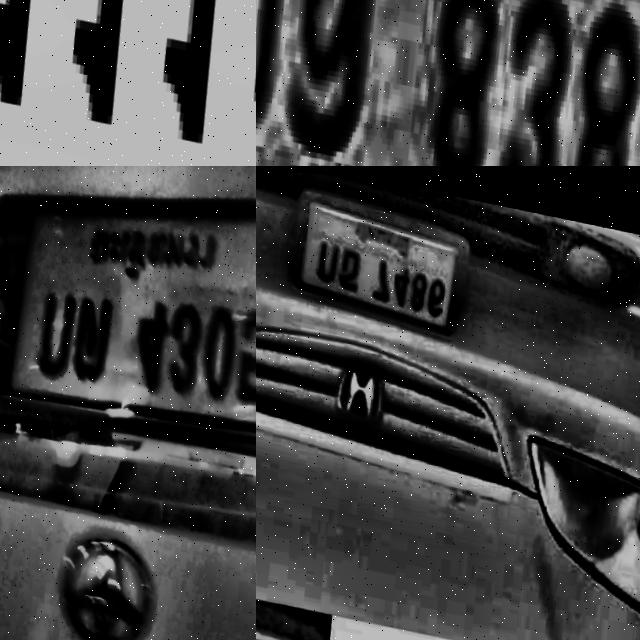license-plate: (256, 0, 640, 166), (5, 208, 256, 421), (0, 0, 256, 166), (273, 182, 483, 341)
